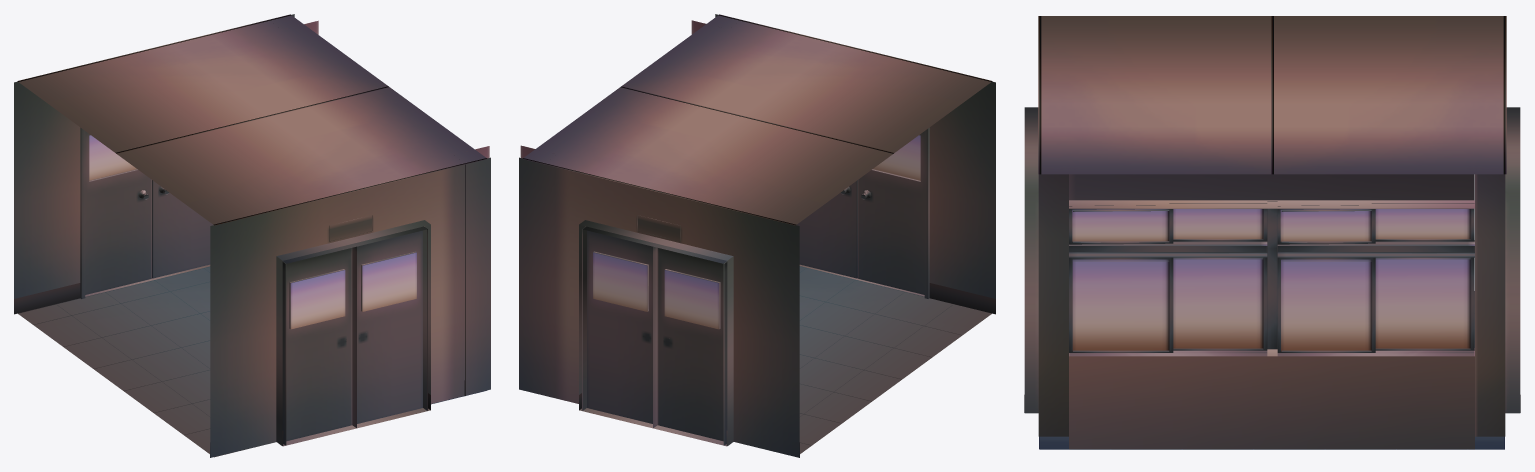
File: JpsStairs_way_evening.FBX
The picture shows the model from 3 angles, left to right: view 1: azimuth 30°, elevation 25°; view 2: azimuth 150°, elevation 25°; view 3: azimuth 270°, elevation 25°; orthographic projection. The views are drawn at different scales.
Visible parts, largest first — view 1: Sta_Way_ceiling board_eve, Sta_Way_wall_exitB_eve, Sta_Way_floor_eve, Sta_Way_wall_exitA_eve, Sta_Way_doorL_exitB_eve, Sta_Way_doorR_exitB_eve, Sta_Way_doorL_exitA_eve, Sta_Way_doorR_exitA_eve; view 2: Sta_Way_ceiling board_eve, Sta_Way_wall_exitA_eve, Sta_Way_floor_eve, Sta_Way_wall_exitB_eve, Sta_Way_doorL_exitA_eve, Sta_Way_doorR_exitA_eve, Sta_Way_doorL_exitB_eve, Sta_Way_doorR_exitB_eve; view 3: Sta_Way_wallR_eve, Sta_Way_ceiling board_eve, Sta_Way_wall_exitA_eve, Sta_Way_wall_exitB_eve, Sta_Way_floor_eve.
Boxes of the visible parts, x1,y1,x2,y2 form: Sta_Way_ceiling board_eve: (17,14,487,225); Sta_Way_wall_exitB_eve: (210,157,490,457); Sta_Way_floor_eve: (18,266,486,457); Sta_Way_wall_exitA_eve: (14,14,294,314); Sta_Way_doorL_exitB_eve: (282,246,356,445); Sta_Way_doorR_exitB_eve: (357,227,427,423); Sta_Way_doorL_exitA_eve: (85,131,151,294); Sta_Way_doorR_exitA_eve: (152,180,213,278); Sta_Way_ceiling board_eve: (522,14,992,225); Sta_Way_wall_exitA_eve: (519,157,799,457); Sta_Way_floor_eve: (799,266,991,453); Sta_Way_wall_exitB_eve: (715,14,995,314); Sta_Way_doorL_exitA_eve: (653,246,727,445); Sta_Way_doorR_exitA_eve: (582,227,652,423); Sta_Way_doorL_exitB_eve: (858,131,924,294); Sta_Way_doorR_exitB_eve: (796,180,857,278); Sta_Way_wallR_eve: (1038,174,1505,448); Sta_Way_ceiling board_eve: (1038,16,1506,174); Sta_Way_wall_exitA_eve: (1505,107,1520,413); Sta_Way_wall_exitB_eve: (1024,107,1038,413); Sta_Way_floor_eve: (1039,291,1504,449).
Size of the model in its own units: 395 by 300 by 490.
